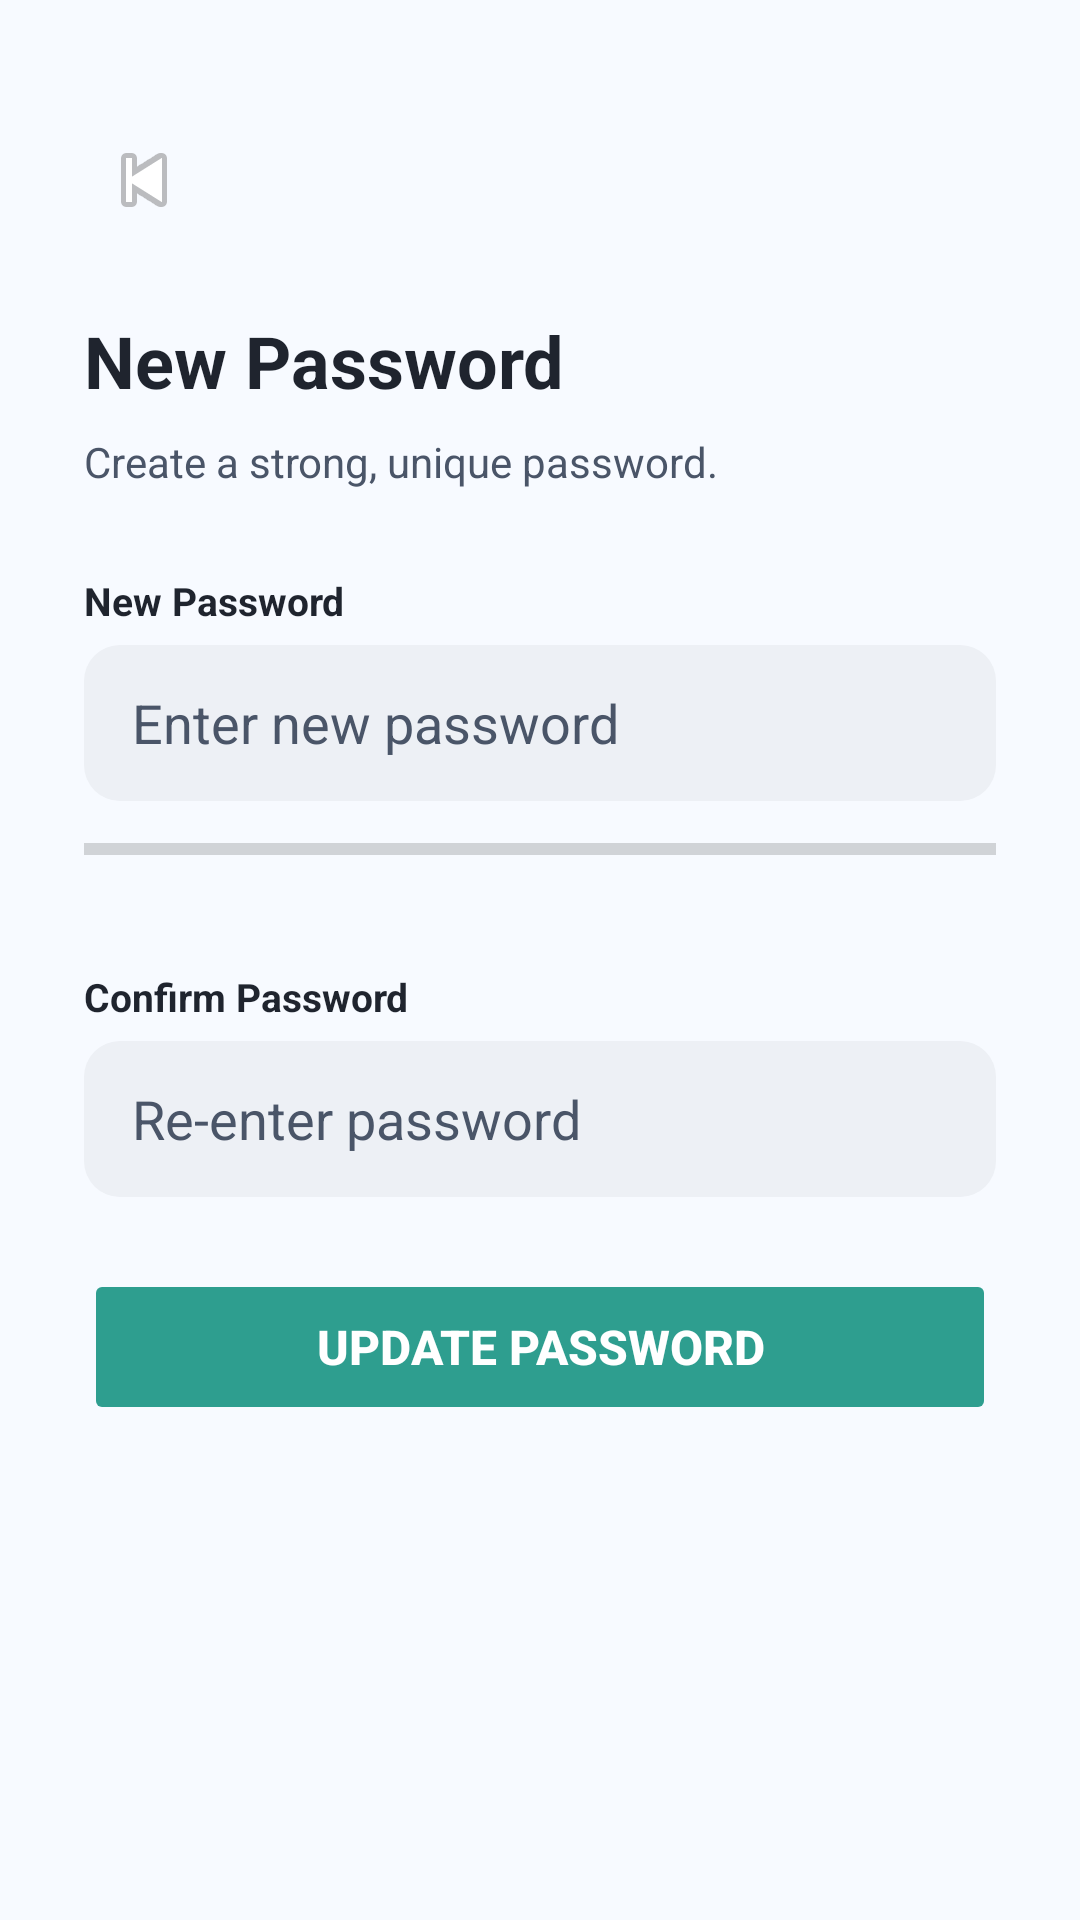

Named icons in this screenshot (1080px×1920px) and their centers, (x,y):
Back: (144,180)
